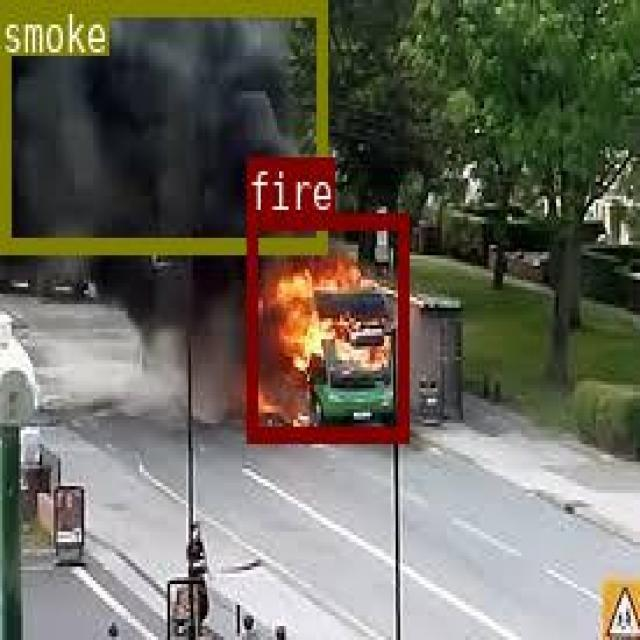fire: (244, 211, 405, 440)
smoke: (0, 0, 326, 252)
